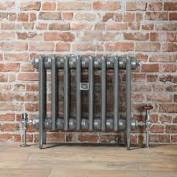Radiator: (19, 52, 152, 148)
